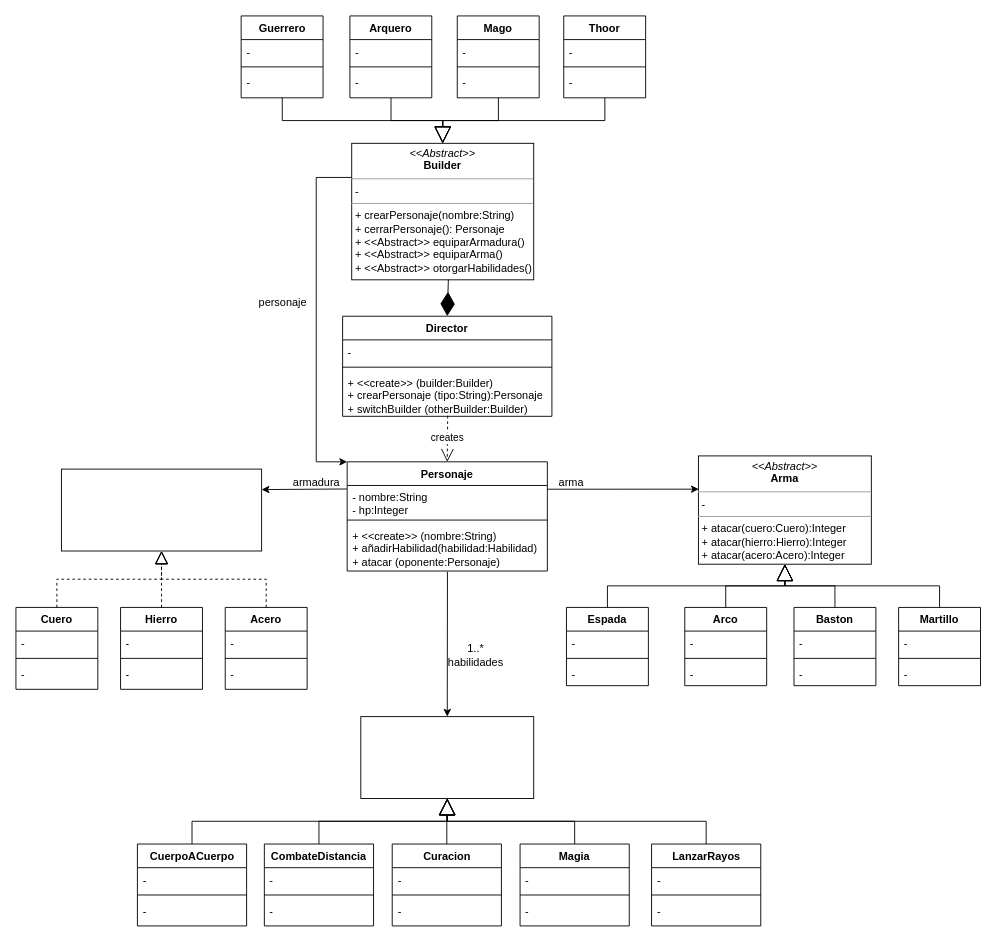
The diagram is 996 pixels wide and 945 high, and some of its shapes have lost their labels. Here are the shapes that lost their labels. From the top down, the centre of each, then its label:
At point (161, 509): "<<Interface>> Armadura - + recibirDaño(arma:Arma):Integer".
At point (447, 757): "<<Abstract>> Habilidad - -".
